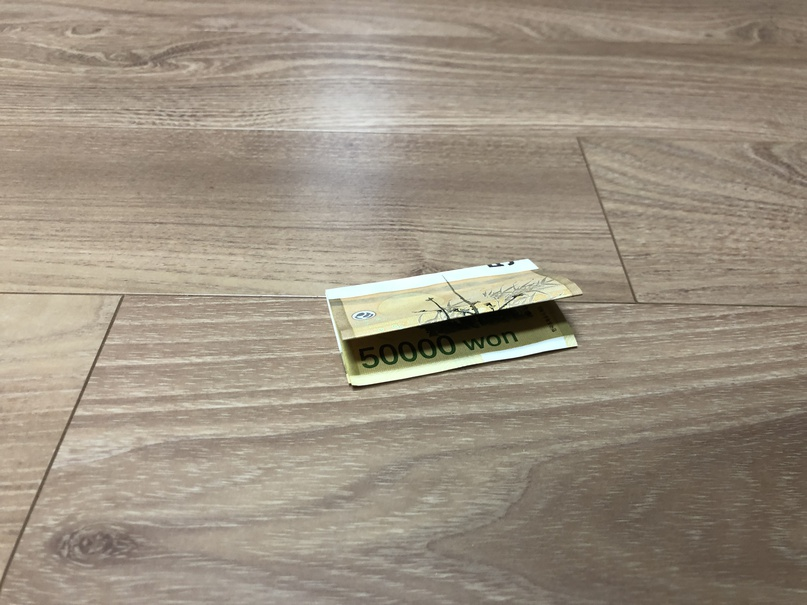50000won: (324, 258, 584, 387)
